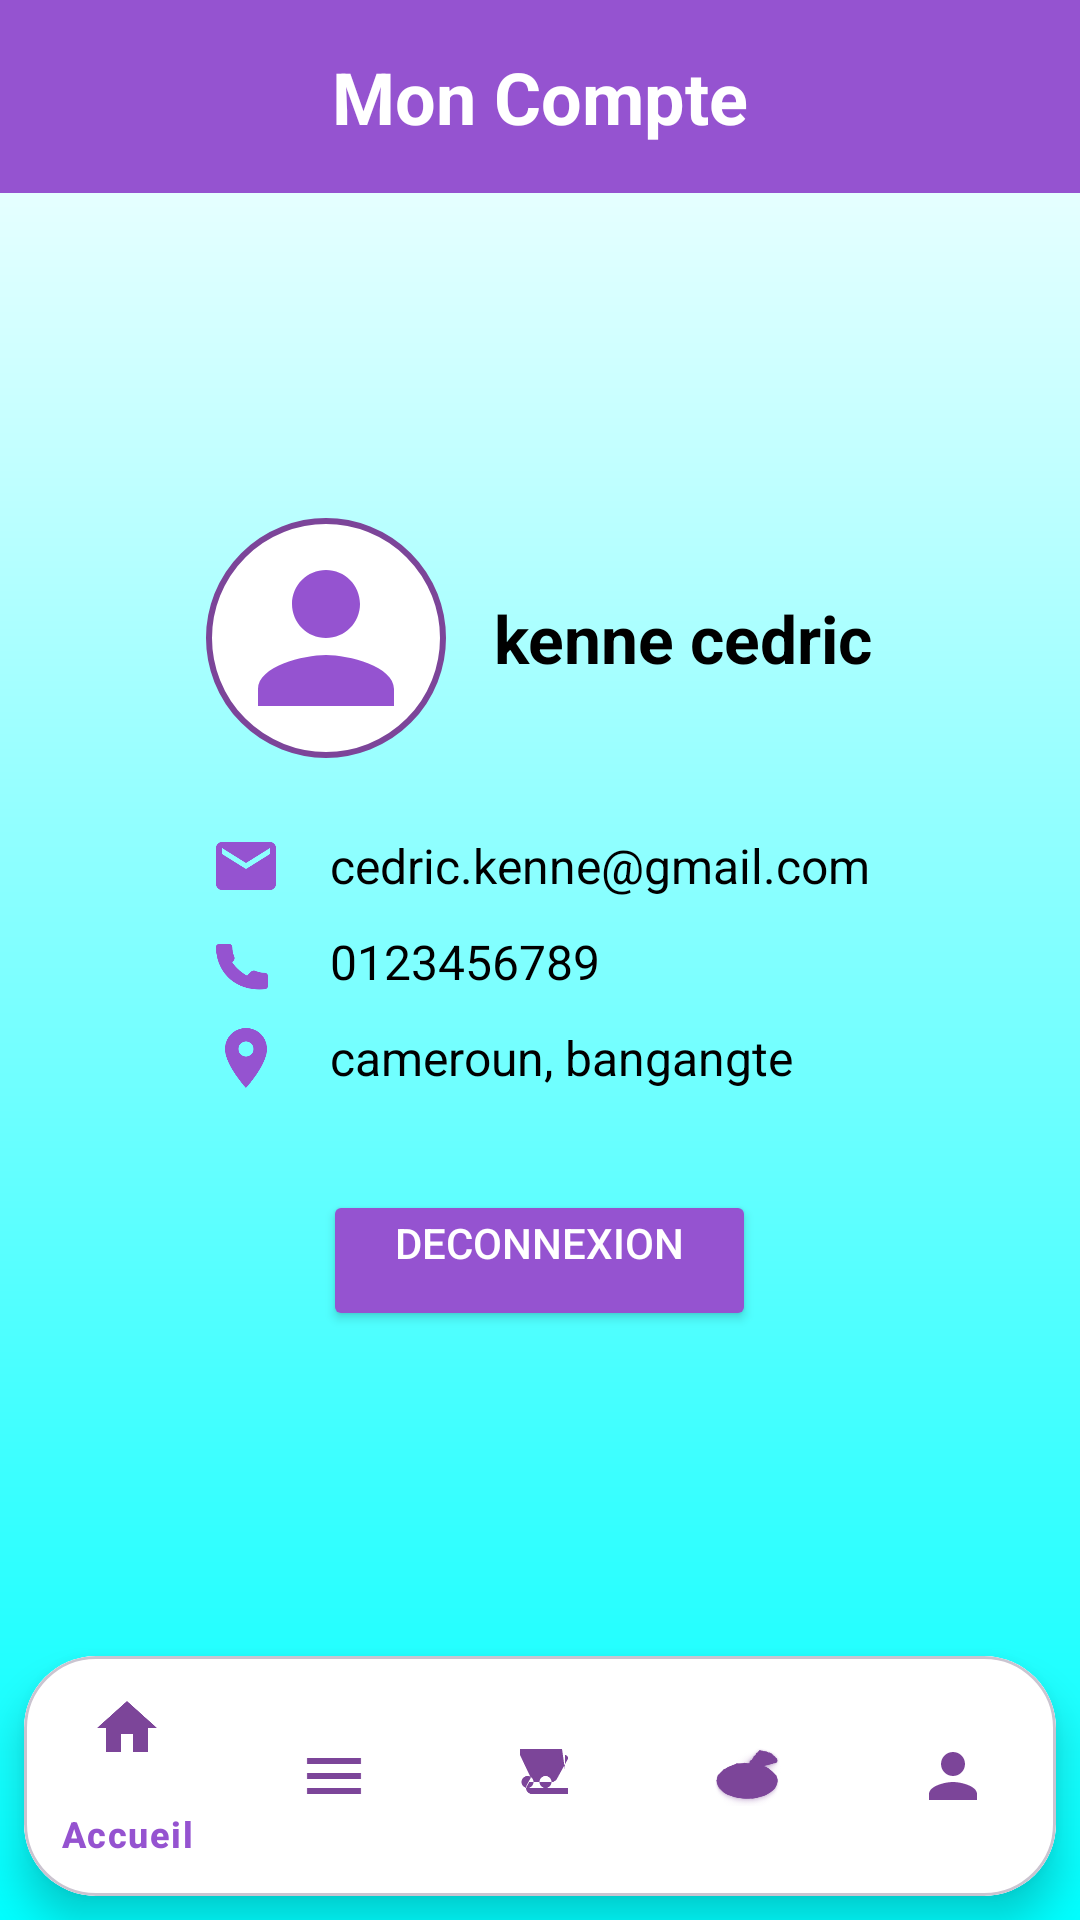

Icons on this 1080 × 1920 Android screen, each with its box as (x1, y1, x2, y2):
Avatar de l'utilisateur: (206, 518, 446, 758)
Icône adresse: (225, 1028, 267, 1088)
Icône email: (216, 842, 276, 890)
Icône téléphone: (216, 944, 268, 990)
